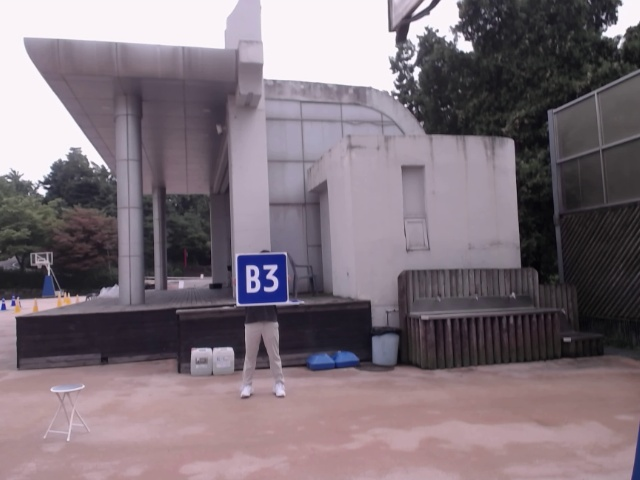delivery_b3: (236, 255, 288, 304)
